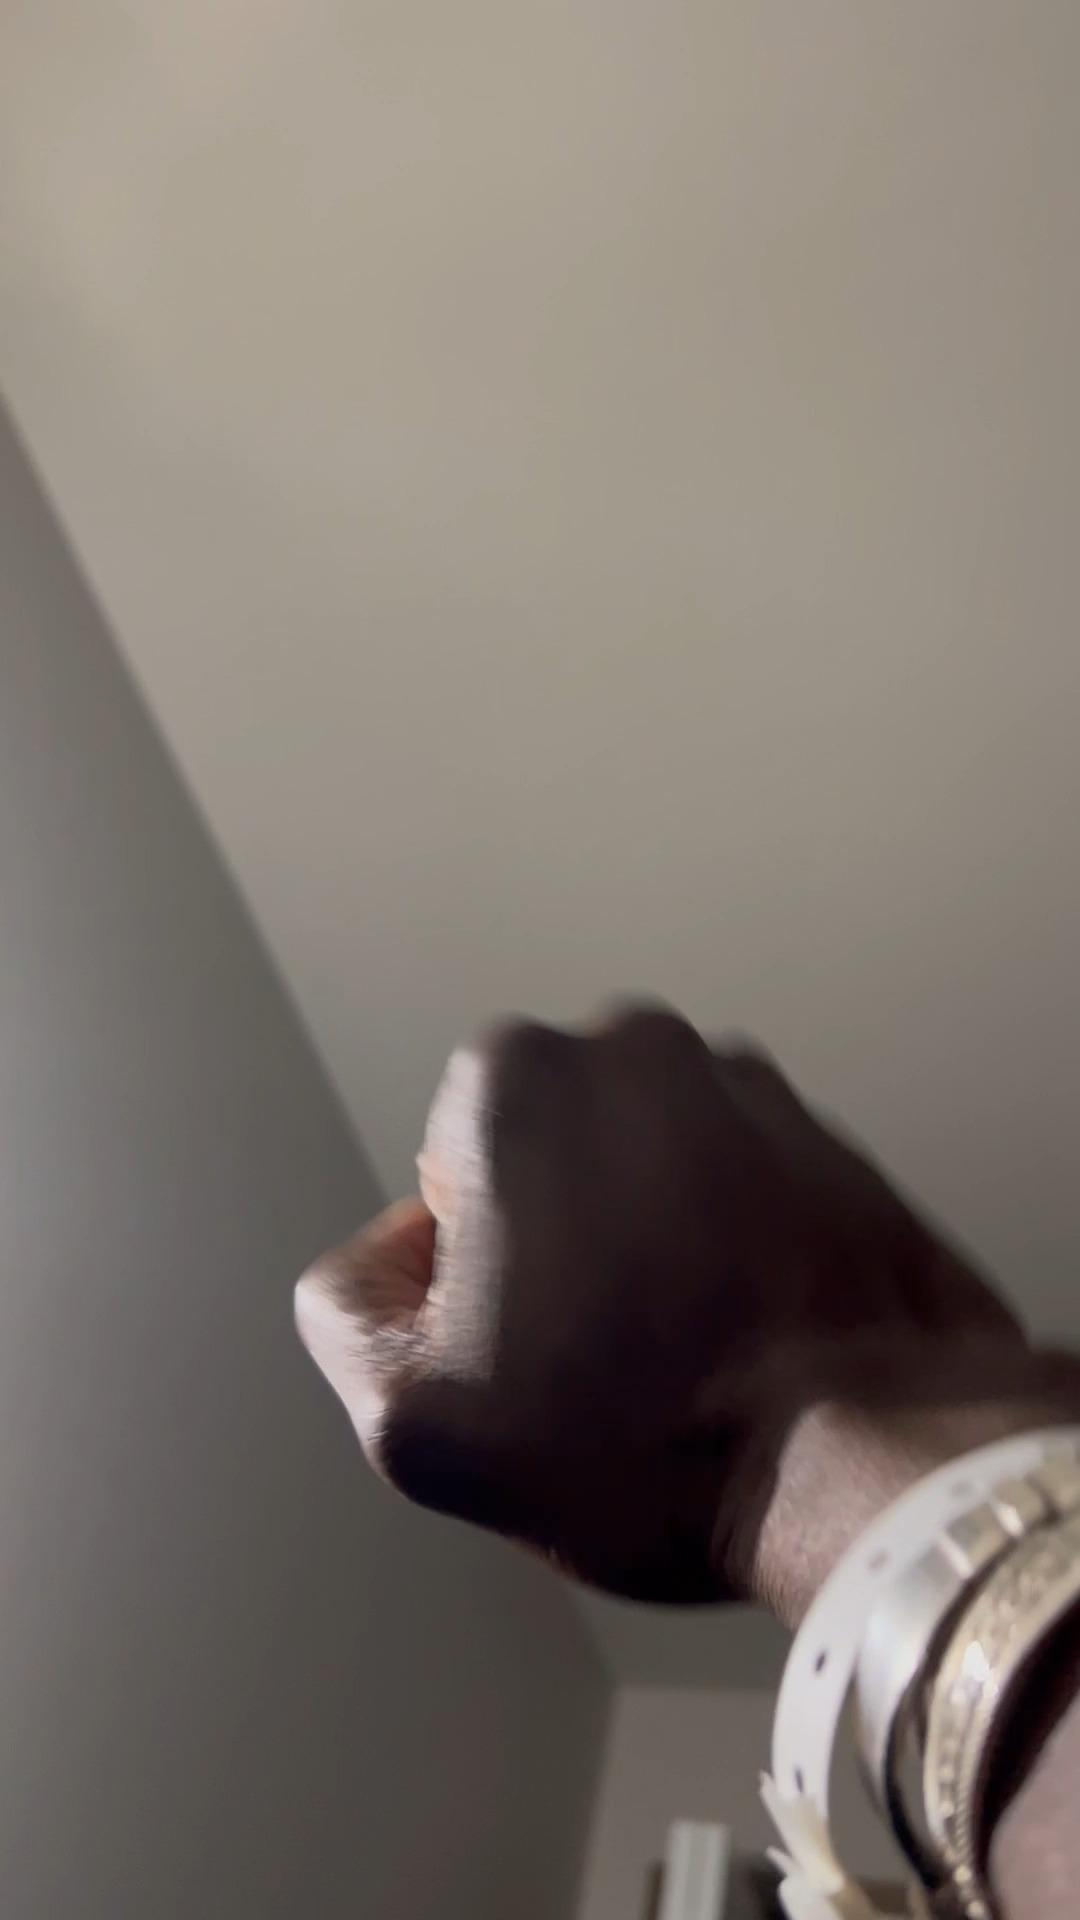Rock: (290, 997, 1022, 1596)
